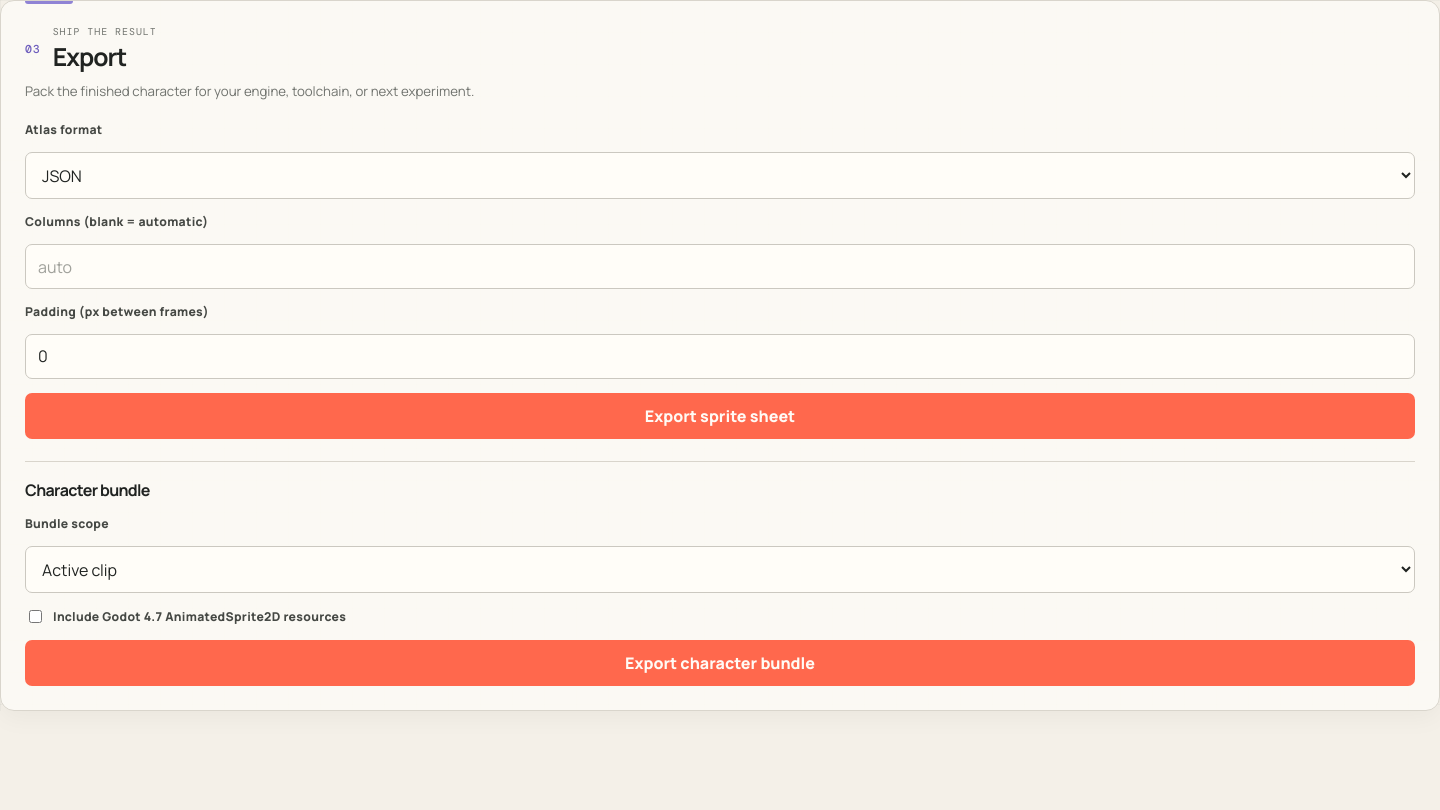
it: ExportPanel › clears download links when export options change
This screenshot has width=1440, height=810.
Click the button "Export sprite sheet" at (720, 416), box [25,393,1415,439]
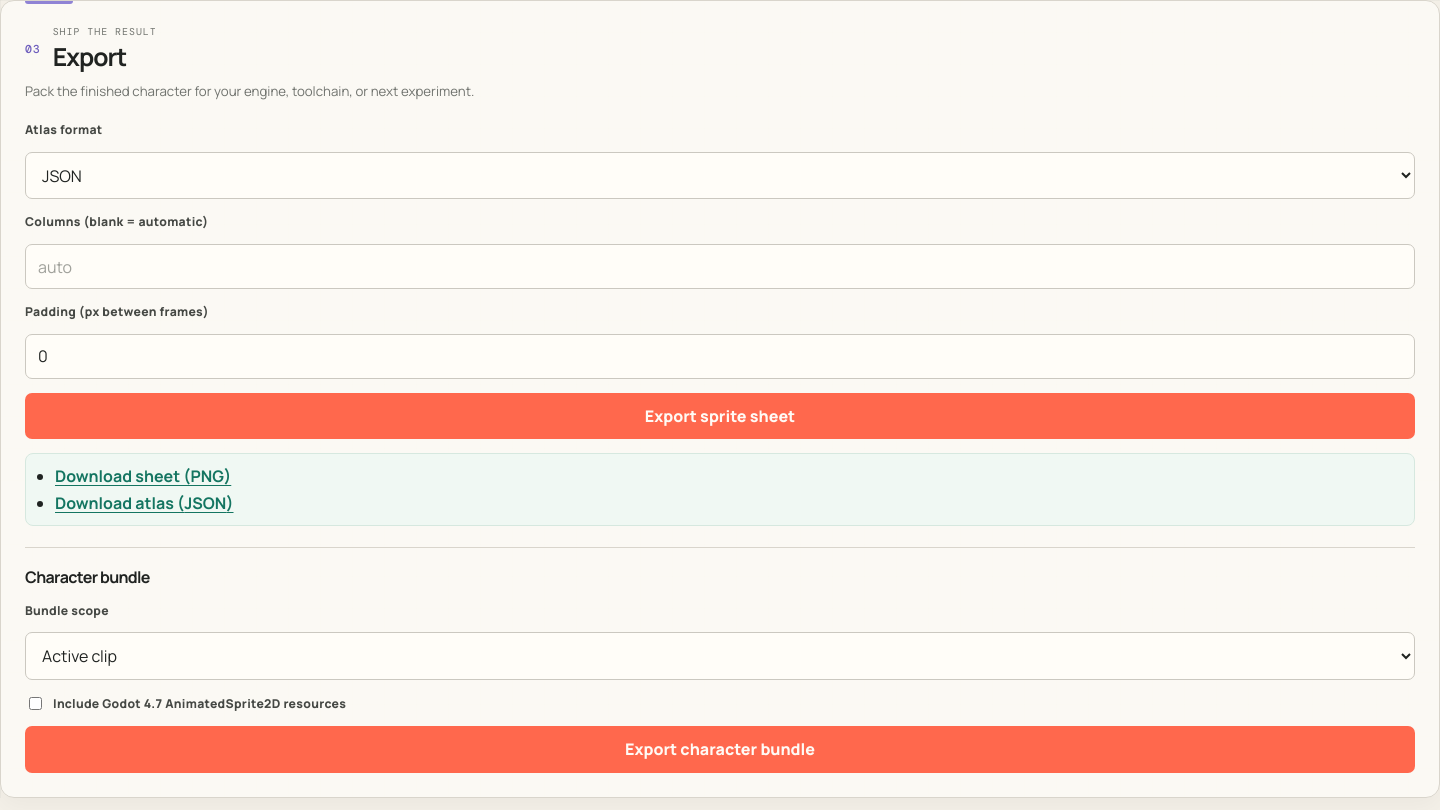
Expected: the link "Download atlas (JSON)" is shown, [55,492,234,514]
Replace the text in the number field labelled "Padding (px between frames)" with "2" at (720, 356), box [25,334,1415,379]
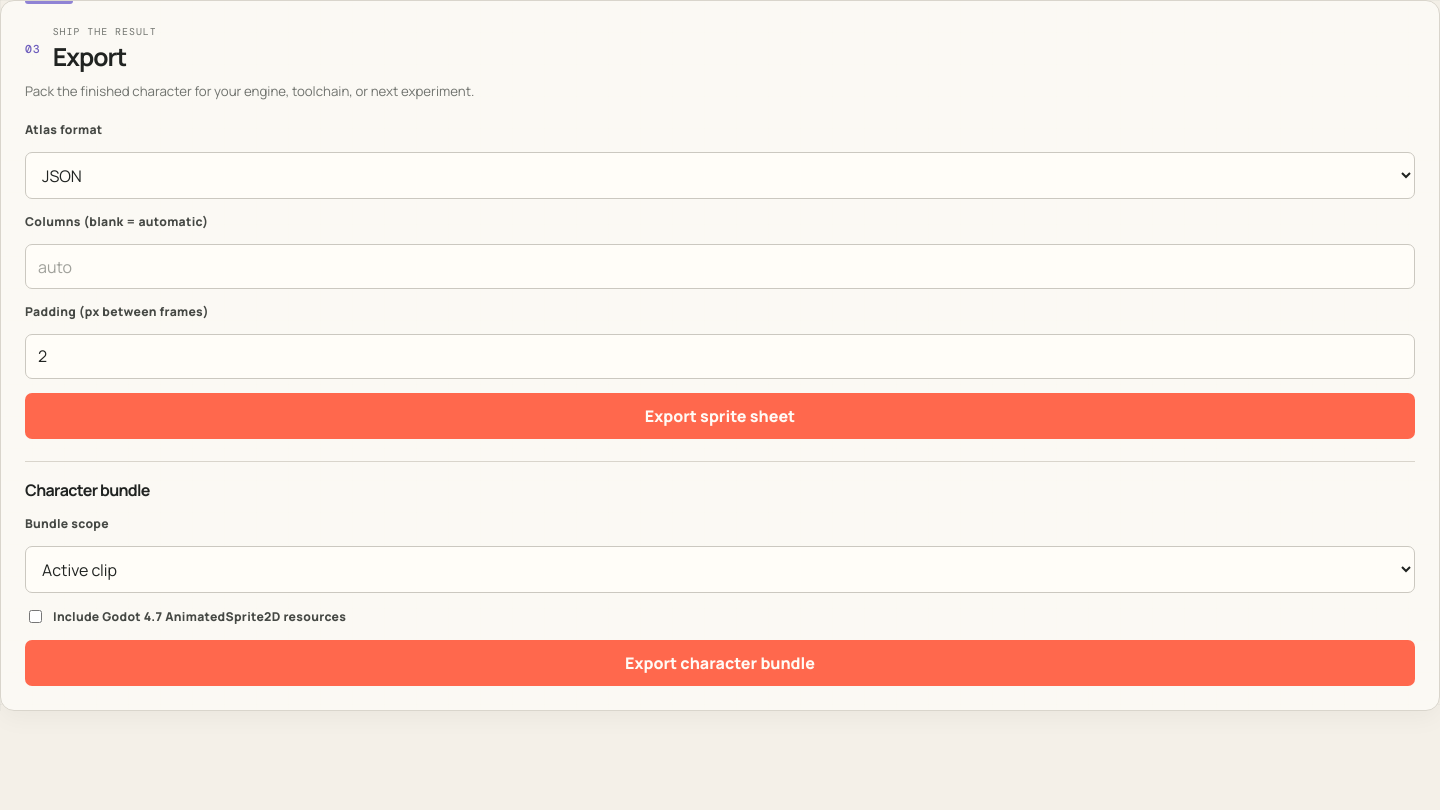
Expected: the link "Download atlas" is gone
